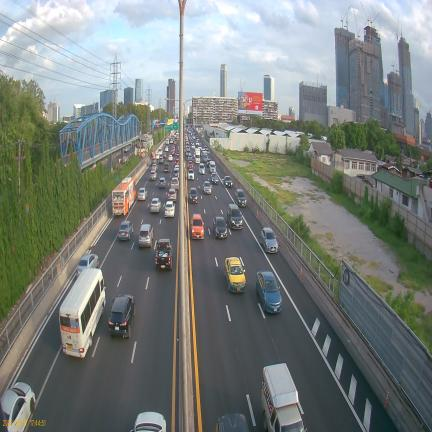bus: (59, 269, 106, 357), (112, 177, 136, 215)
car: (1, 382, 35, 432), (108, 294, 135, 338), (256, 271, 282, 313), (260, 227, 278, 253), (77, 253, 99, 274), (227, 203, 243, 229), (138, 224, 153, 247), (191, 214, 204, 239), (213, 216, 227, 238), (118, 221, 133, 240), (235, 189, 246, 207), (164, 201, 175, 217), (150, 198, 161, 212), (189, 187, 198, 203), (167, 188, 177, 202), (138, 187, 148, 200), (203, 181, 212, 194), (223, 176, 233, 187), (211, 172, 219, 184), (158, 177, 166, 188), (149, 170, 157, 180), (187, 169, 194, 180), (199, 163, 205, 174), (151, 163, 158, 172), (202, 153, 208, 163), (206, 156, 211, 167), (188, 154, 193, 163), (188, 161, 193, 169), (159, 157, 164, 164), (155, 153, 160, 160), (164, 146, 169, 152), (163, 153, 167, 159), (191, 143, 195, 149), (277, 429, 280, 432), (211, 171, 211, 172)
pickup: (155, 239, 173, 271), (171, 177, 179, 190), (163, 162, 170, 172)
taxi: (225, 257, 245, 292)
truck: (261, 363, 307, 432), (209, 161, 216, 173), (195, 148, 200, 164)
van: (158, 148, 163, 156)
